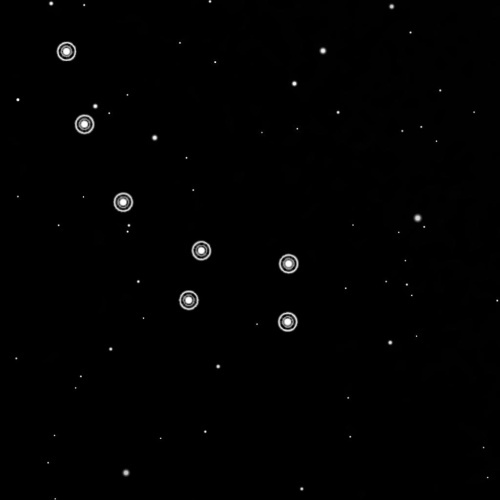ursa_minor: (51, 36, 304, 338)
